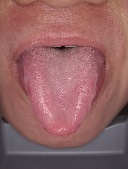tongue: (16, 54, 105, 137)
